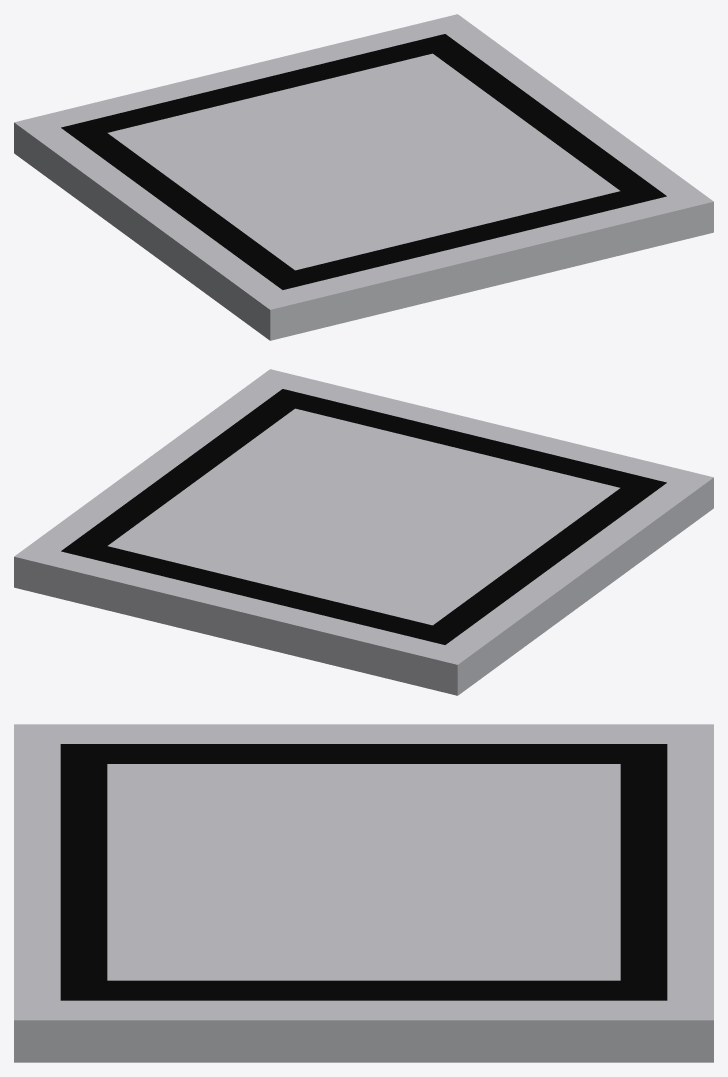
The model's file is dungeon_d_b_ground_b_a.obj.
The picture shows the model from 3 angles, top to bottom: view 1: azimuth 30°, elevation 25°; view 2: azimuth 150°, elevation 25°; view 3: azimuth 270°, elevation 25°; orthographic projection. The views are drawn at different scales.
Bounding box in the file's own units: 1.5 × 0.1 × 1.5.
Materials: 1 (1 with a texture image).
